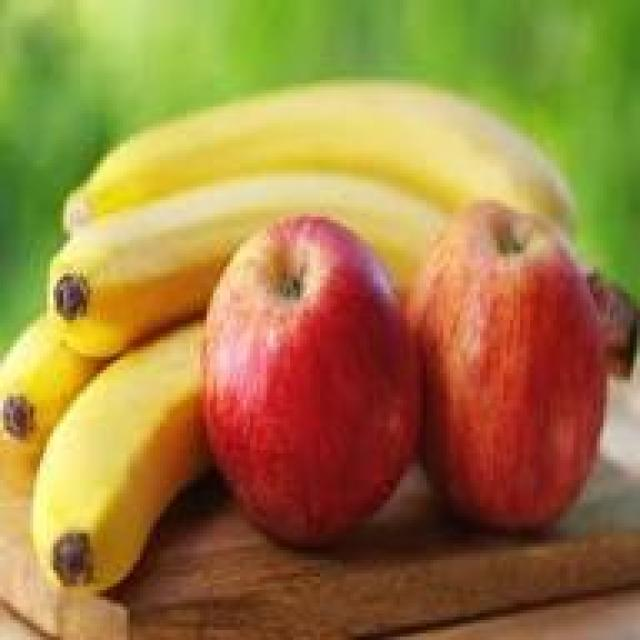apple: (390, 206, 607, 526), (217, 214, 430, 524)
